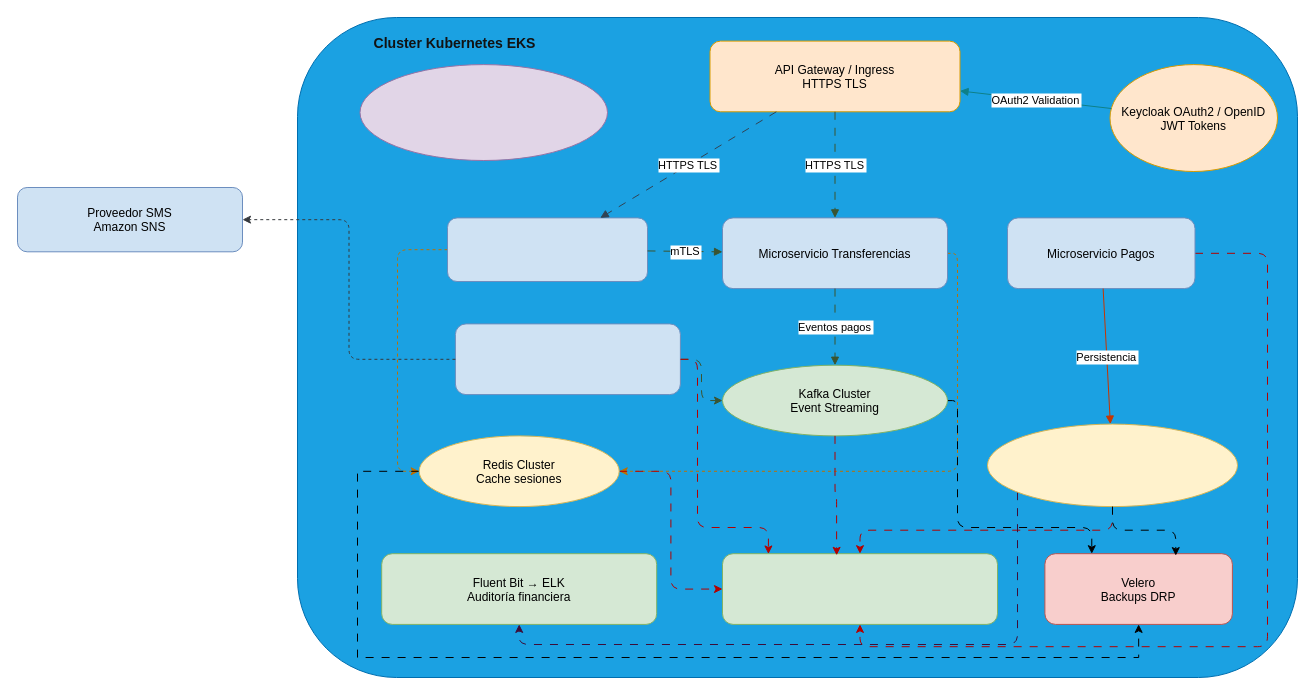
This 1315x695 diagram has some shape labels left out. The centre of each missing label's shape, as x and y in pixels:
"Cassandra DB Transacciones financieras" belongs at [1112,465].
"Microservicio Cuentas" belongs at [547,249].
"Microservicio Notificaciones" belongs at [567,359].
"Prometheus + Grafana Monitoreo" belongs at [860,588].
"Service Mesh (Istio) Traffic control + mTLS" belongs at [483,112].
